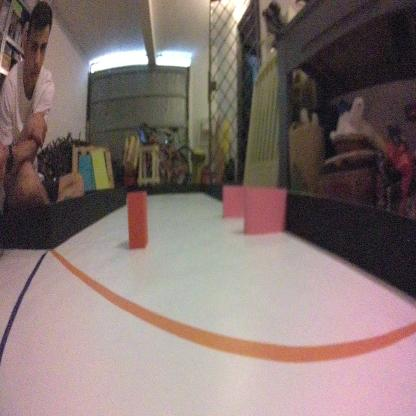magenta: (242, 186, 285, 237), (220, 178, 253, 223)
red: (126, 185, 149, 254)
